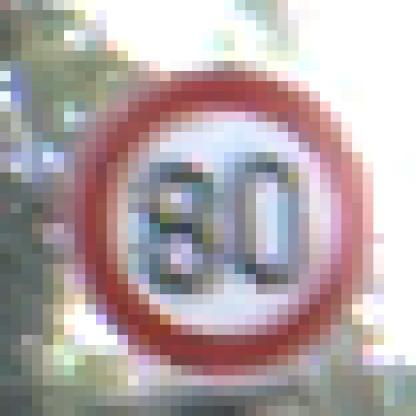Speed Limit -80-: (70, 63, 341, 381)
